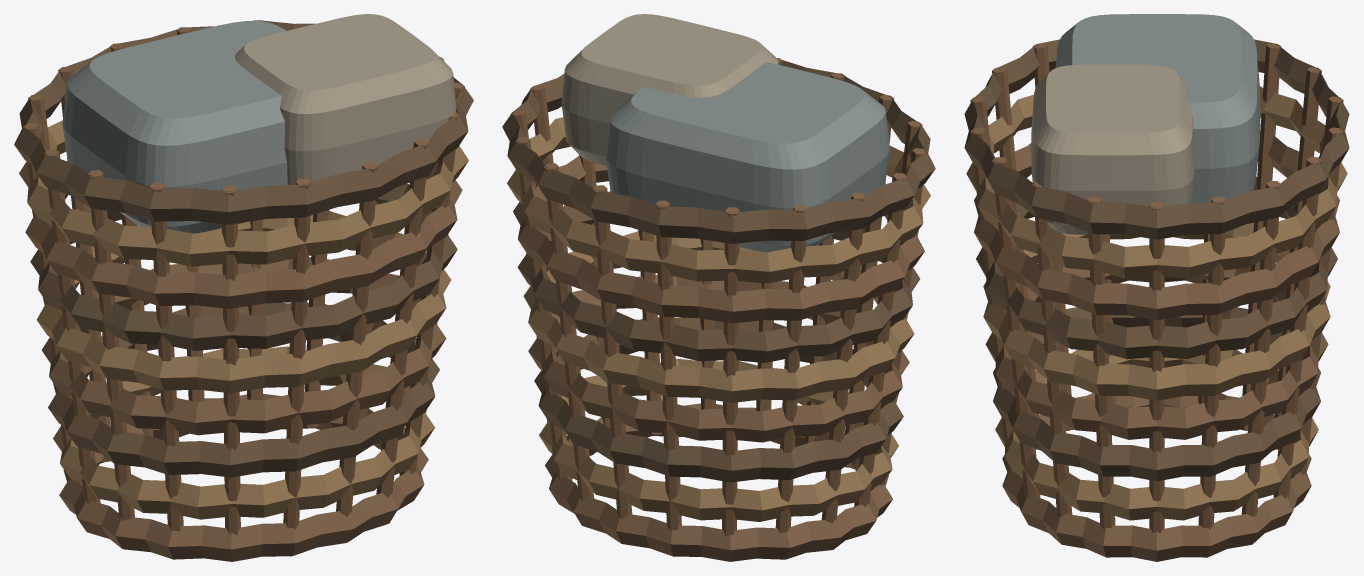
File: W-08_wicker_hamper.glb
3 views of the same model, side by side, from view 1: azimuth 30°, elevation 25°; view 2: azimuth 150°, elevation 25°; view 3: azimuth 270°, elevation 25° (orthographic). The views are drawn at different scales.
Parts seen in each view (by area): view 1: W-08_wicker_hamper; view 2: W-08_wicker_hamper; view 3: W-08_wicker_hamper.
Boxes of the visible parts, x1,y1,x2,y2 form: W-08_wicker_hamper: (14, 14, 473, 561); W-08_wicker_hamper: (502, 14, 935, 561); W-08_wicker_hamper: (964, 14, 1349, 561).
Bounding box in the file's own units: 0.4214 × 0.427 × 0.3517.
